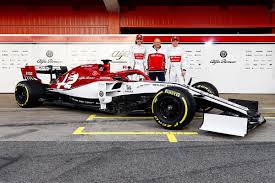FormulaOneCar: (12, 55, 269, 141)
